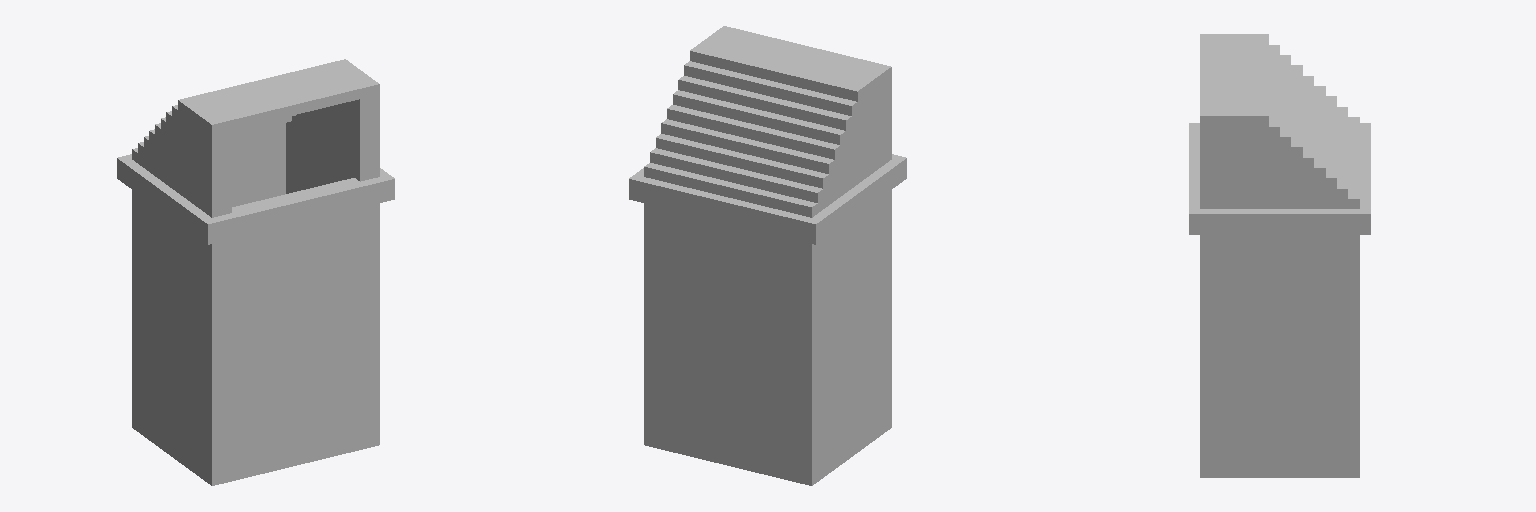
Rendered from garbage can.obj.
3 views of the same model, side by side, from view 1: azimuth 30°, elevation 25°; view 2: azimuth 150°, elevation 25°; view 3: azimuth 270°, elevation 25° (orthographic).
Parts seen in each view (by area): view 1: object 1; view 2: object 1; view 3: object 1.
Part boxes in pixels (left/top/right/bottom): object 1: left=117, top=59, right=394, bottom=485; object 1: left=629, top=26, right=906, bottom=485; object 1: left=1189, top=34, right=1370, bottom=477.
Size of the model in its own units: 3.8 by 7 by 3.2.